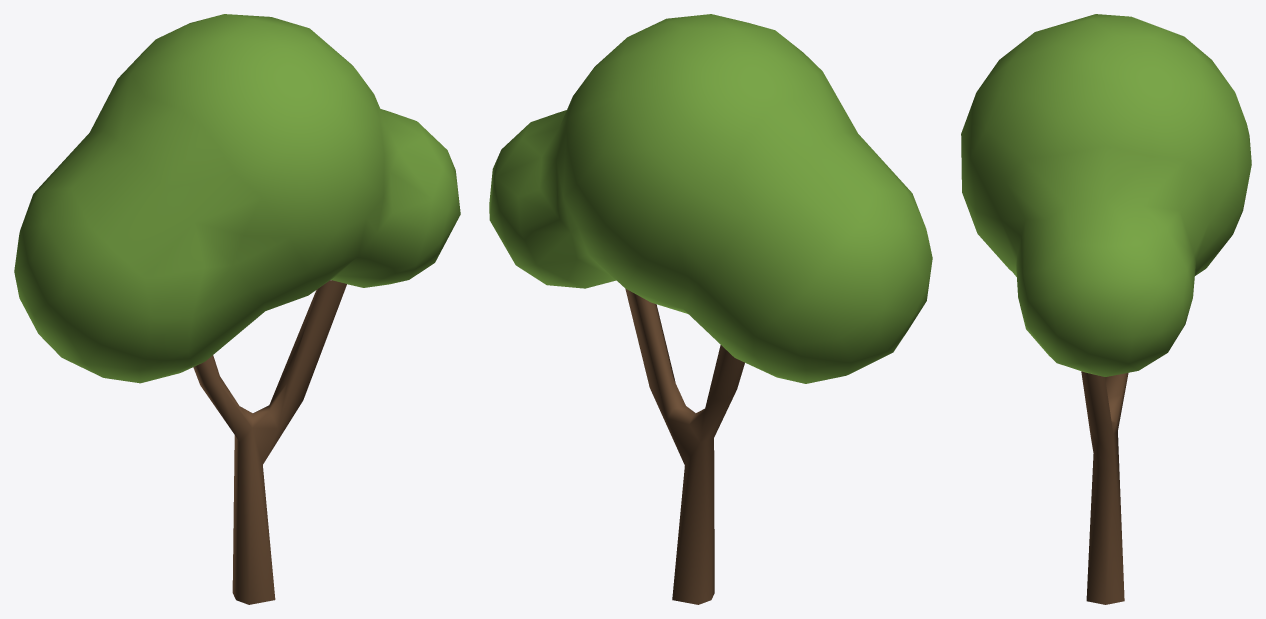
Rendered from broadleaf-1.glb.
3 views of the same model, side by side, from view 1: azimuth 30°, elevation 25°; view 2: azimuth 150°, elevation 25°; view 3: azimuth 270°, elevation 25° (orthographic).
Visible parts, largest first — view 1: broadleaf-1; view 2: broadleaf-1; view 3: broadleaf-1.
Boxes of the visible parts, x1,y1,x2,y2 form: broadleaf-1: (14, 14, 460, 604); broadleaf-1: (489, 14, 932, 604); broadleaf-1: (961, 14, 1251, 604).
Bounding box in the file's own units: 2.06 × 2.7 × 1.27.
